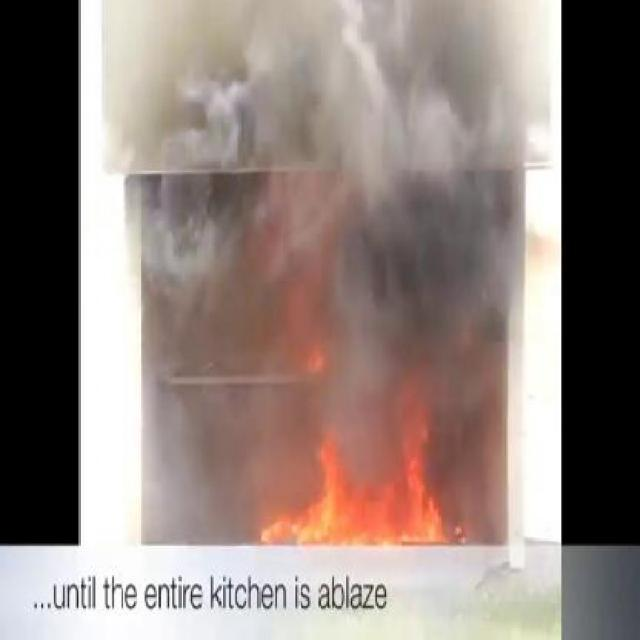fire: (293, 455, 458, 540)
smoke: (318, 49, 510, 434), (150, 66, 275, 502)
